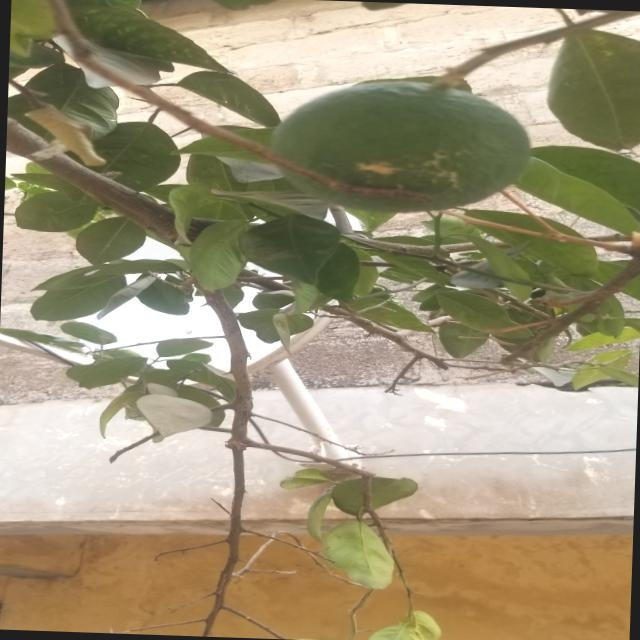agrume: (249, 66, 535, 234)
